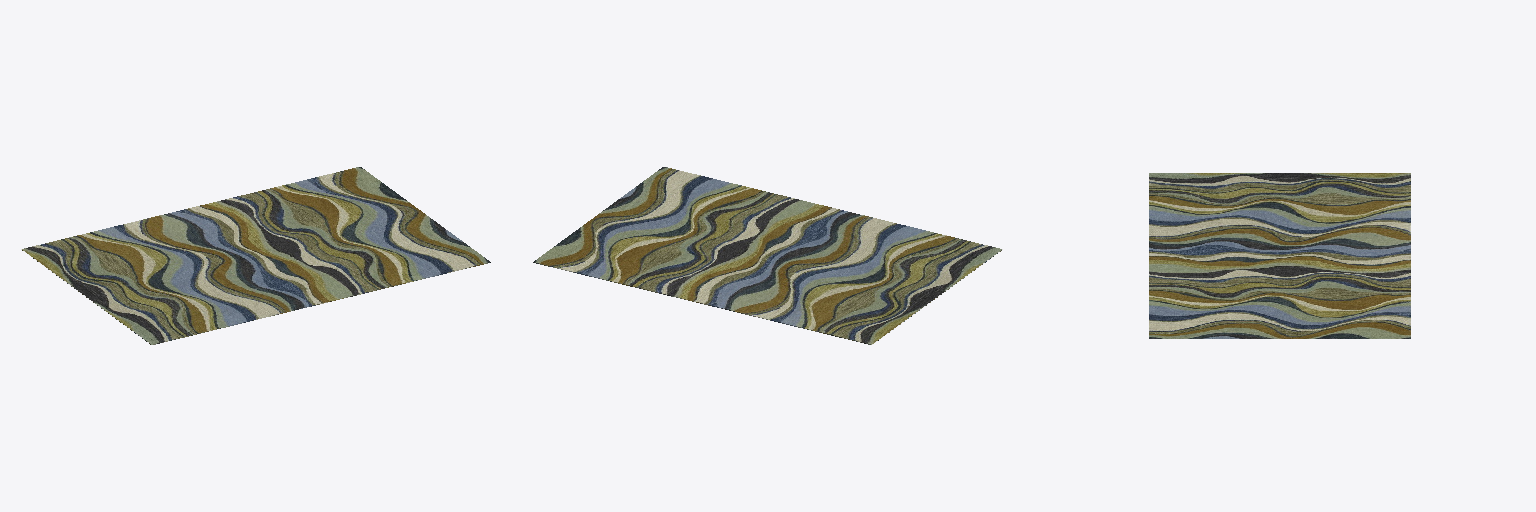
3 renders of one model, left to right at view 1: azimuth 30°, elevation 25°; view 2: azimuth 150°, elevation 25°; view 3: azimuth 270°, elevation 25°, orthographic.
Parts seen in each view (by area): view 1: Proj_FixFurnitureModel01-COM-Interior_Fabric_RugArea0221-728928-; view 2: Proj_FixFurnitureModel01-COM-Interior_Fabric_RugArea0221-728928-; view 3: Proj_FixFurnitureModel01-COM-Interior_Fabric_RugArea0221-728928-.
Part boxes in pixels (x1,y1,x2,y2): Proj_FixFurnitureModel01-COM-Interior_Fabric_RugArea0221-728928-: (21,167,490,344); Proj_FixFurnitureModel01-COM-Interior_Fabric_RugArea0221-728928-: (533,167,1002,344); Proj_FixFurnitureModel01-COM-Interior_Fabric_RugArea0221-728928-: (1149,173,1410,338).
Bounding box in the file's own units: 2.51 × 0.0044 × 1.68.
Materials: 3 (1 with a texture image).